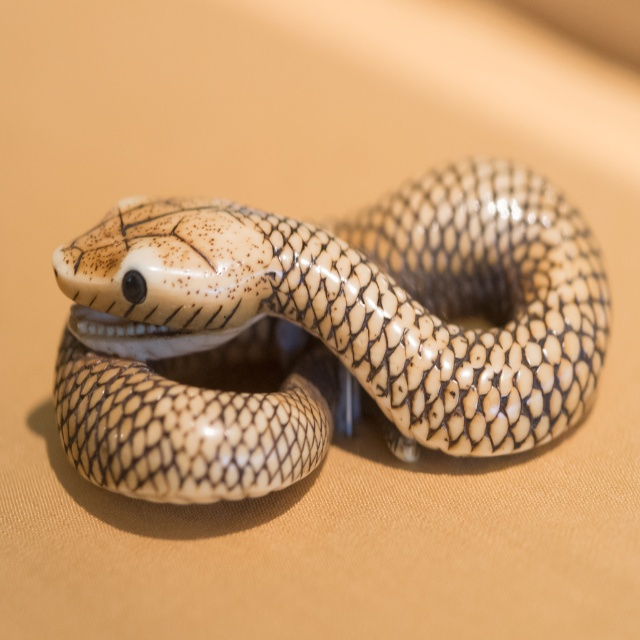Snake: (52, 156, 613, 505)
